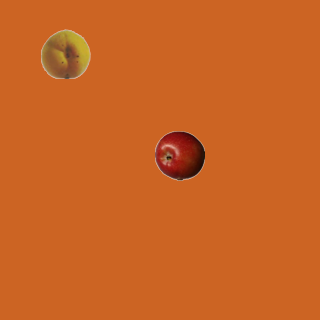Apple Braeburn: (154, 130, 204, 180)
Peach 2: (40, 28, 90, 78)
